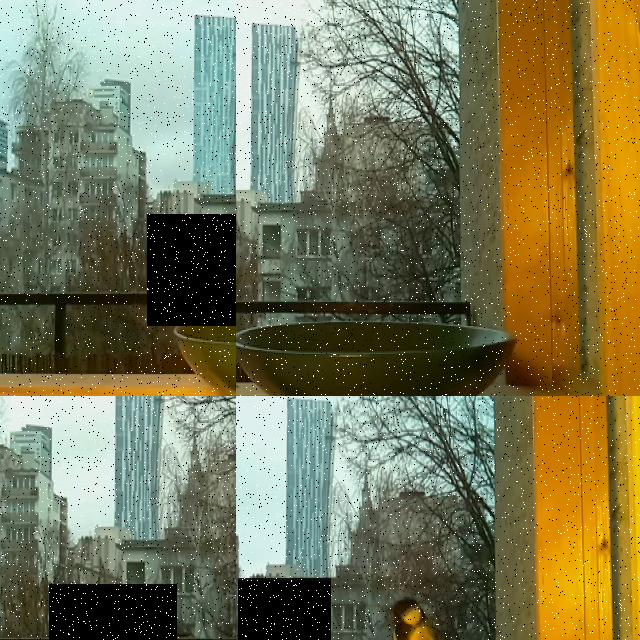Bogatka: (147, 214, 236, 326), (49, 584, 177, 640), (387, 593, 463, 640)
Wrobel: (238, 578, 331, 640)
